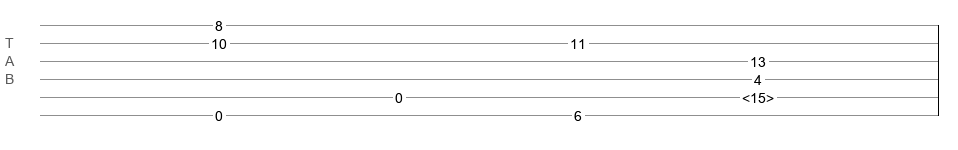0: (215, 108, 223, 118), (395, 90, 403, 100)
10: (211, 36, 227, 46)
11: (570, 36, 586, 46)
13: (750, 54, 766, 64)
4: (754, 72, 762, 82)
6: (574, 108, 582, 118)
8: (215, 18, 223, 28)
harmonic: (742, 90, 774, 100)
